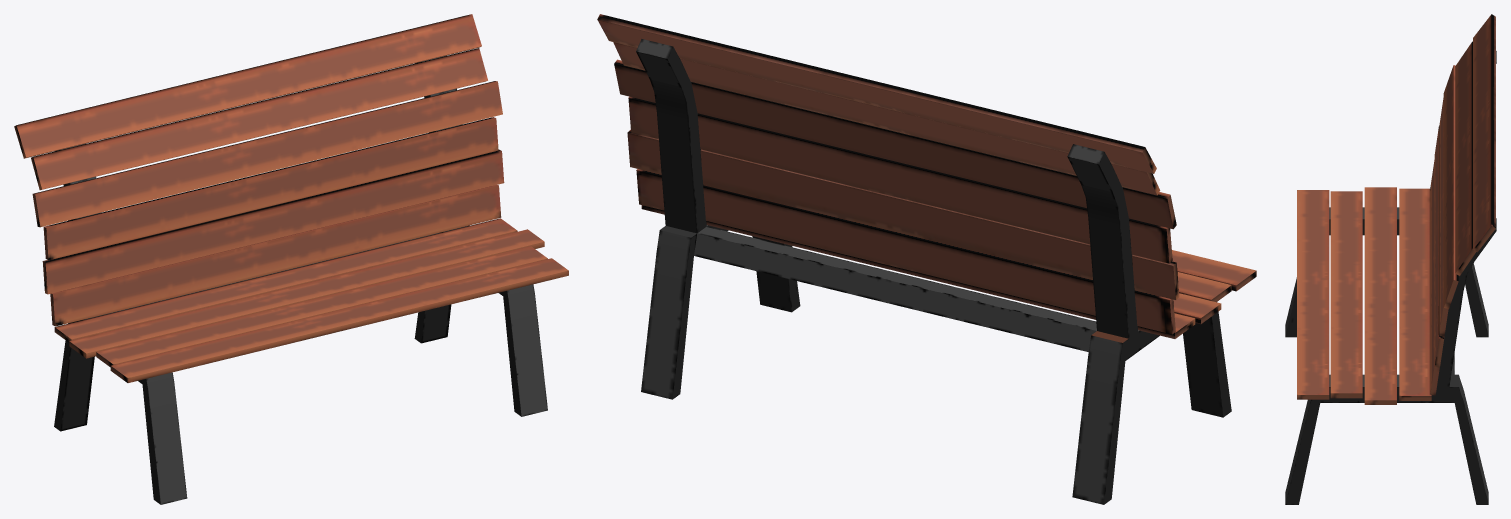
Rendered from Bench.fbx.
The picture shows the model from 3 angles, left to right: view 1: azimuth 30°, elevation 25°; view 2: azimuth 150°, elevation 25°; view 3: azimuth 270°, elevation 25°; orthographic projection. The views are drawn at different scales.
Parts seen in each view (by area): view 1: pCube12; view 2: pCube12; view 3: pCube12.
Part boxes in pixels (x1=…): pCube12: x1=14, y1=14, x2=568, y2=504; pCube12: x1=597, y1=14, x2=1256, y2=504; pCube12: x1=1285, y1=14, x2=1496, y2=504.
Bounding box in the file's own units: 244 × 156 × 101.
